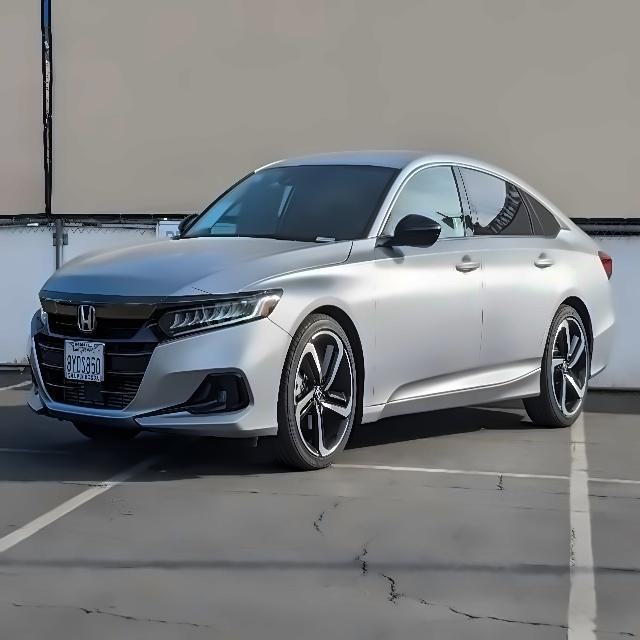Car hood: (35, 232, 356, 301)
Fender - -F-L-: (238, 224, 380, 423)
Fender - -R-L-: (538, 240, 602, 394)
Front bumper: (19, 316, 299, 443)
Headlight - -L-: (150, 285, 288, 347)
Headlight - -R-: (34, 297, 67, 335)
Passenger-s door - -F-L-: (382, 156, 485, 407)
Passenger-s door - -R-L-: (470, 156, 563, 396)
Rear bumper: (585, 300, 622, 380)
Rear light - -L-: (587, 246, 621, 282)
Side bumper - -L-: (358, 364, 544, 428)
Side mirror - -L-: (372, 207, 450, 257)
Side mirror - -R-: (168, 208, 203, 240)
